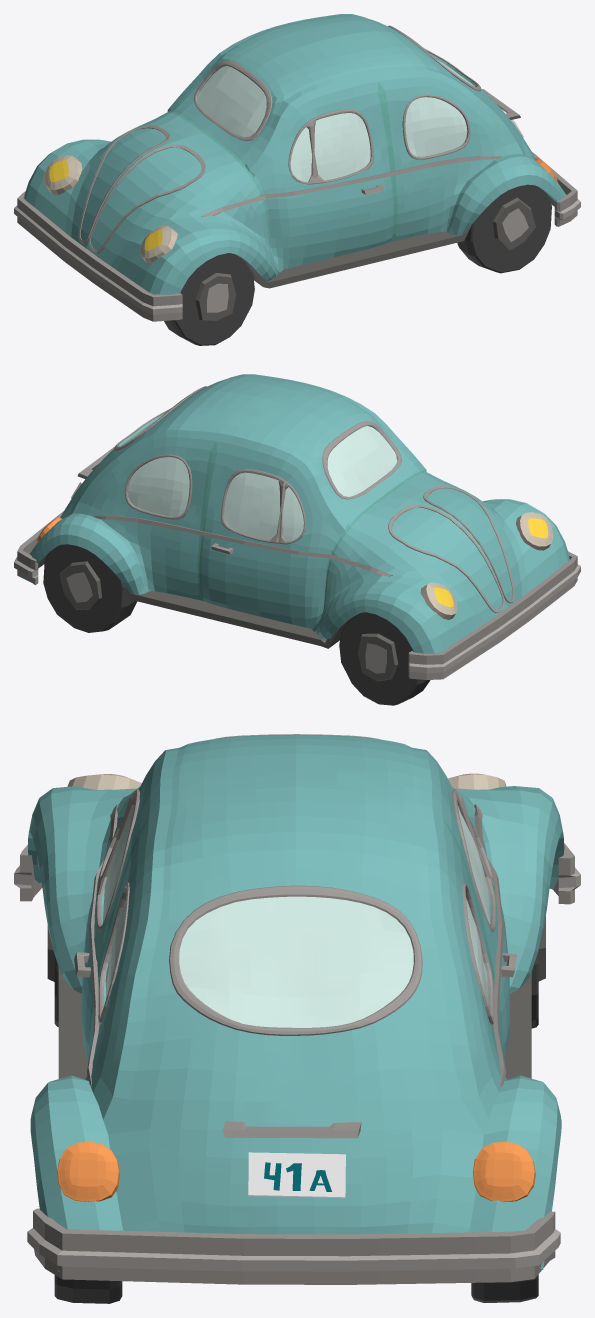
File: Garage_Car.glb
3 renders of one model, top to bottom at view 1: azimuth 30°, elevation 25°; view 2: azimuth 150°, elevation 25°; view 3: azimuth 270°, elevation 25°, orthographic. The views are drawn at different scales.
Parts seen in each view (by area): view 1: Garage_Car; view 2: Garage_Car; view 3: Garage_Car.
Boxes of the visible parts, <box> form: Garage_Car: <box>14,14,580,345</box>; Garage_Car: <box>14,374,580,705</box>; Garage_Car: <box>14,734,580,1303</box>.
Size of the model in its own units: 1.17 by 0.5505 by 0.6878.
1 material, 1 textured.
